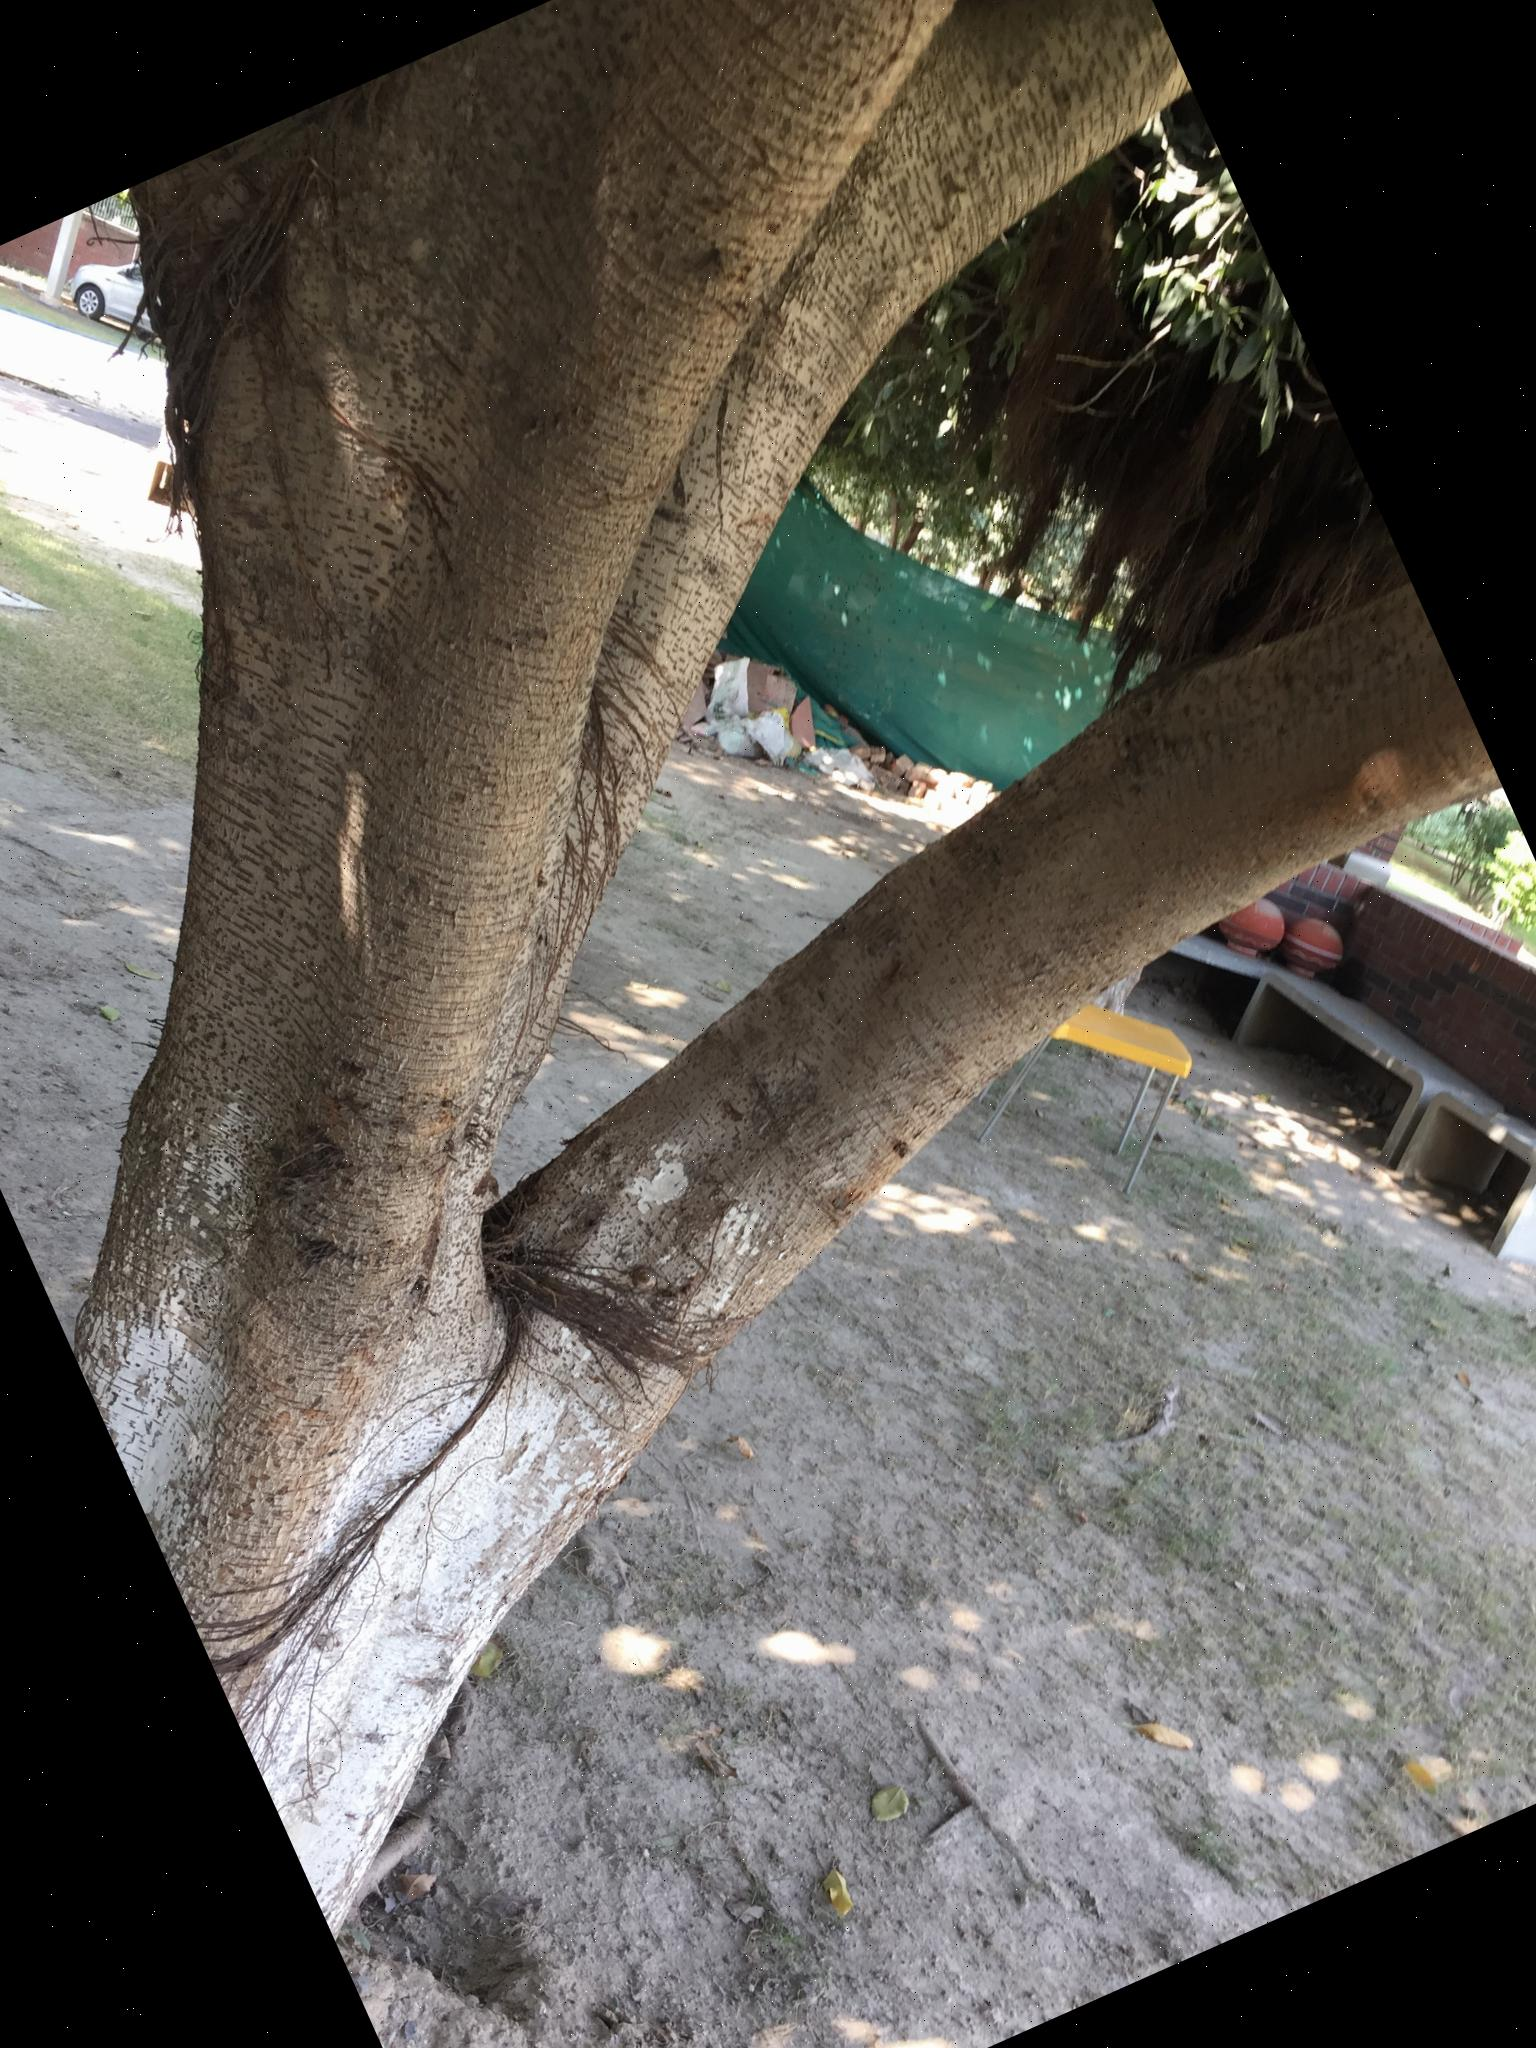chair: (887, 821, 1263, 1279)
